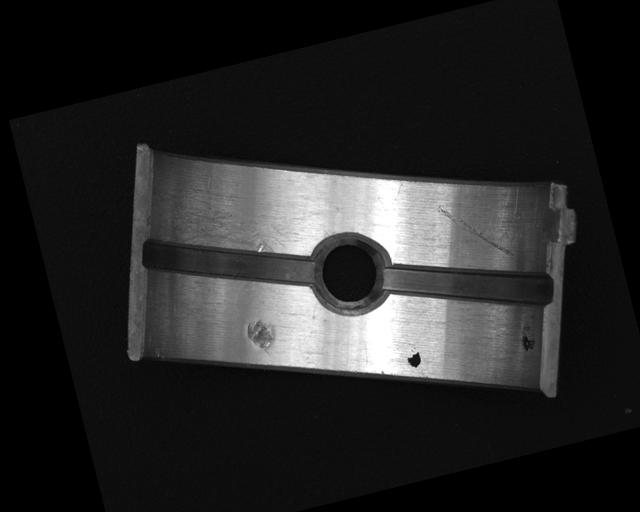blot: (516, 322, 538, 353), (404, 344, 424, 369)
bruise: (244, 315, 283, 360)
gap: (139, 201, 319, 322), (378, 228, 558, 341)
hole: (305, 227, 394, 322)
nick: (436, 189, 513, 270)
scratch: (149, 161, 302, 284)
